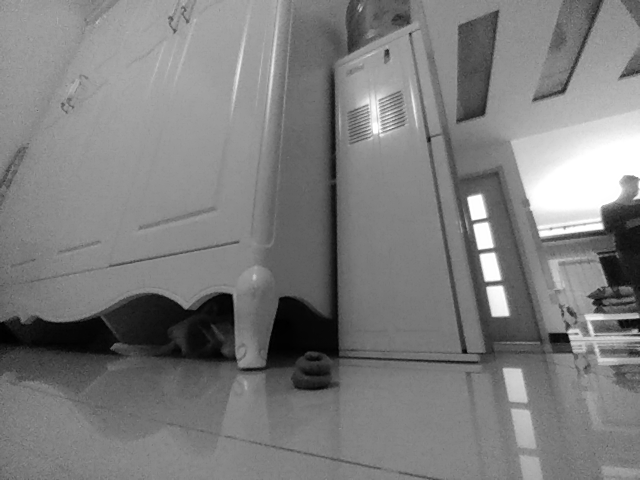pet feces: (289, 351, 339, 392)
